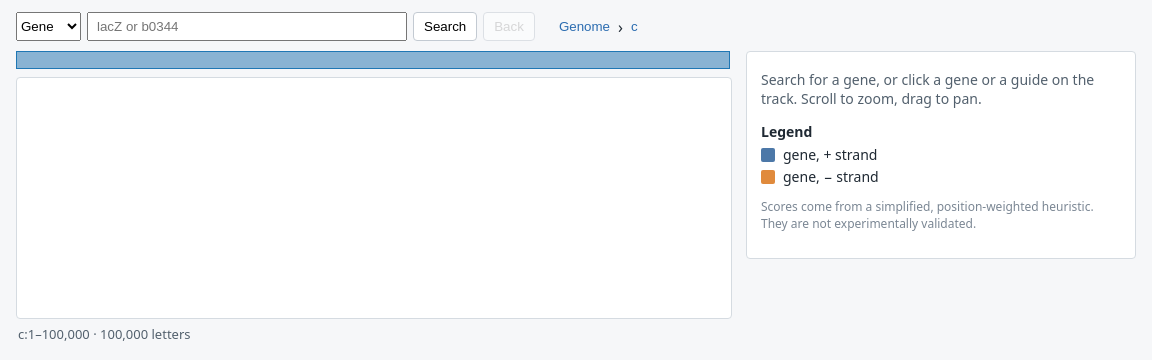
Test: the viewer › Back returns to the previous view
Expected: the button "c" is shown, [627,17,642,36]
Type "geneA" into the field named "Search" at (247,26), box [87,12,407,41]
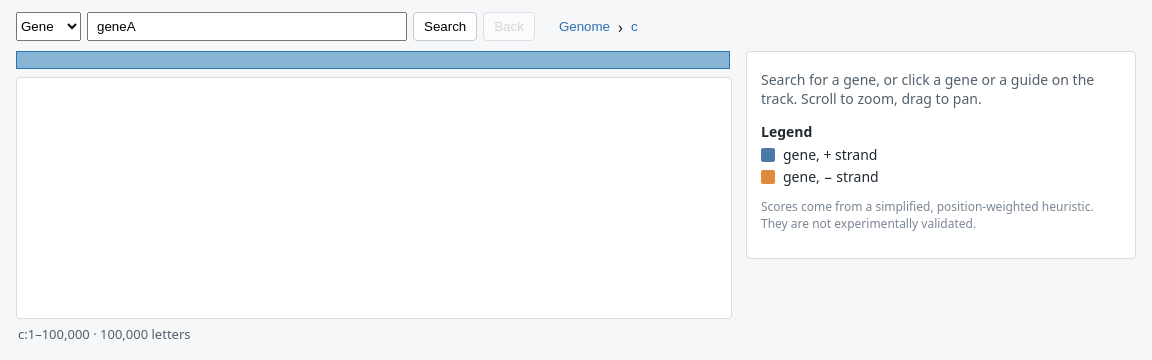
Click the button "Search" at (445,26), box [413,12,477,41]
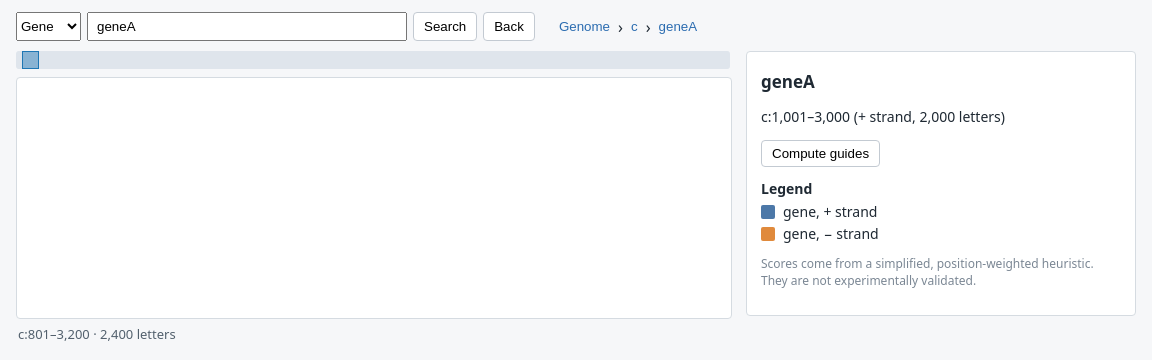
Expected: the heading "geneA" is shown, [761,70,815,93]
Click the button "Back" at (509,26), box [483,12,535,41]
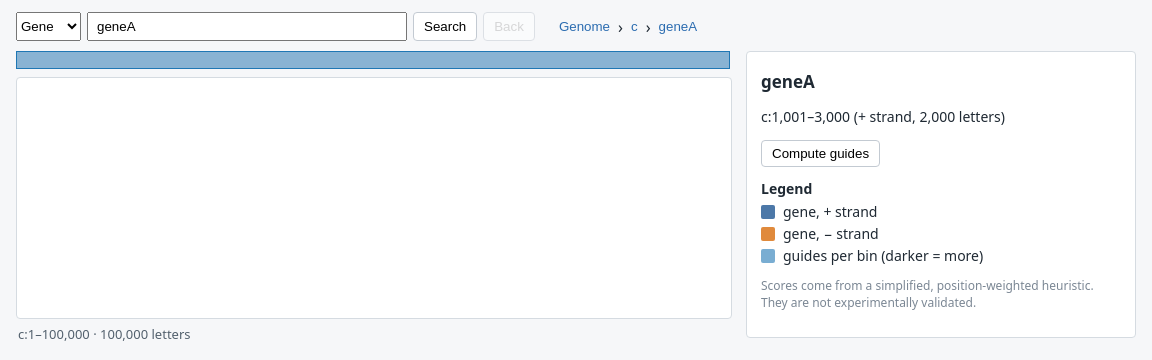
Expected: the text "c:1–100,000 · 100,000 letters" is shown, [18,325,190,343]
